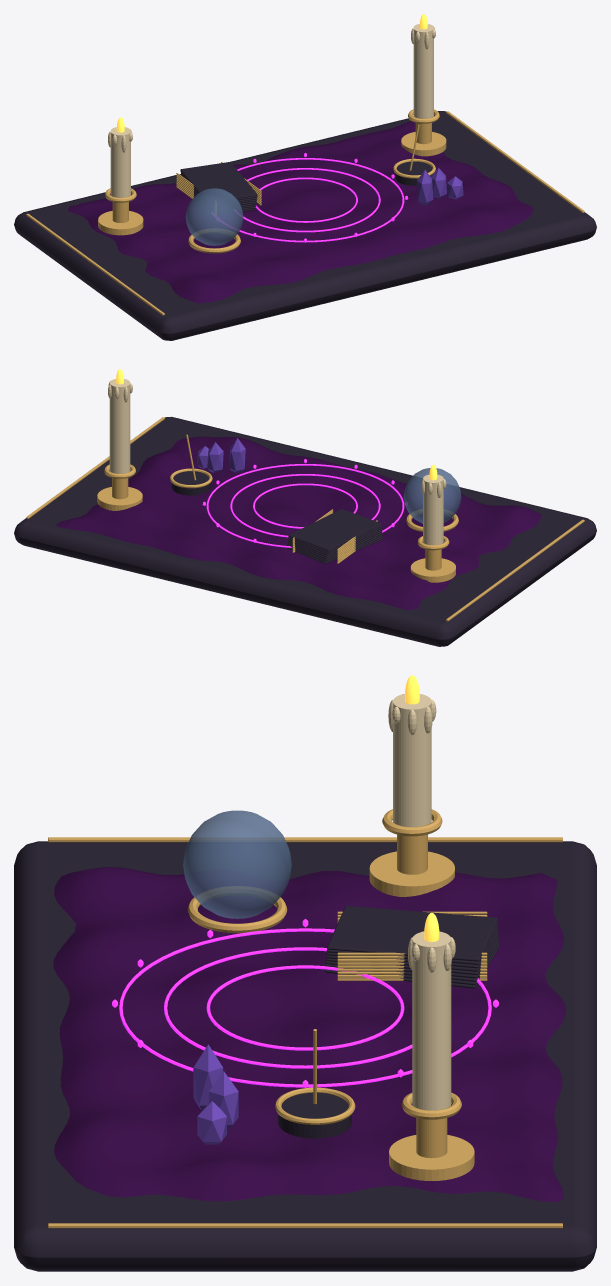
The model's file is ritual-table.glb.
3 views of the same model, one above another, from view 1: azimuth 30°, elevation 25°; view 2: azimuth 150°, elevation 25°; view 3: azimuth 270°, elevation 25° (orthographic). The views are drawn at different scales.
Parts seen in each view (by area): view 1: Draped velvet cloth, Ritual table, Crystal ball, Ivory candle.001, Physical tarot deck.008, Ivory candle, Golden ritual circle.002, Candlestick base, Candlestick base.001, Golden ritual circle.001, Brass table inlay, Brass table inlay.001 (+3 smaller); view 2: Draped velvet cloth, Ritual table, Physical tarot deck.008, Ivory candle.001, Crystal ball, Ivory candle, Golden ritual circle.002, Candlestick base, Candlestick base.001, Incense bowl, Golden ritual circle.001, Brass table inlay (+4 smaller); view 3: Draped velvet cloth, Ritual table, Crystal ball, Ivory candle.001, Physical tarot deck.008, Ivory candle, Brass table inlay.001, Candlestick base.001, Candlestick base, Golden ritual circle.002, Incense bowl, Brass table inlay (+11 smaller).
Part boxes in pixels (left/top/right/bottom): Draped velvet cloth: left=67, top=121, right=533, bottom=303; Ritual table: left=14, top=111, right=596, bottom=340; Crystal ball: left=185, top=188, right=243, bottom=245; Ivory candle.001: left=413, top=24, right=433, bottom=118; Physical tarot deck.008: left=180, top=162, right=257, bottom=198; Ivory candle: left=110, top=127, right=130, bottom=197; Golden ritual circle.002: left=237, top=158, right=404, bottom=242; Candlestick base: left=98, top=211, right=143, bottom=235; Candlestick base.001: left=401, top=132, right=446, bottom=156; Golden ritual circle.001: left=243, top=168, right=380, bottom=232; Brass table inlay: left=26, top=213, right=164, bottom=315; Brass table inlay.001: left=446, top=111, right=584, bottom=212; Draped velvet cloth: left=56, top=436, right=541, bottom=609; Ritual table: left=14, top=416, right=596, bottom=646; Physical tarot deck.008: left=288, top=509, right=381, bottom=550; Ivory candle.001: left=109, top=379, right=130, bottom=473; Crystal ball: left=403, top=468, right=461, bottom=523; Ivory candle: left=423, top=474, right=443, bottom=545; Golden ritual circle.002: left=206, top=464, right=404, bottom=547; Candlestick base: left=410, top=558, right=455, bottom=582; Candlestick base.001: left=97, top=487, right=142, bottom=510; Incense bowl: left=171, top=471, right=210, bottom=495; Golden ritual circle.001: left=230, top=474, right=380, bottom=537; Brass table inlay: left=446, top=519, right=584, bottom=621; Draped velvet cloth: left=53, top=867, right=566, bottom=1202; Ritual table: left=14, top=841, right=596, bottom=1271; Crystal ball: left=183, top=810, right=291, bottom=918; Ivory candle.001: left=412, top=931, right=451, bottom=1110; Physical tarot deck.008: left=327, top=906, right=497, bottom=961; Ivory candle: left=393, top=694, right=431, bottom=827; Brass table inlay.001: left=48, top=1223, right=562, bottom=1228; Candlestick base.001: left=389, top=1135, right=474, bottom=1180; Candlestick base: left=369, top=851, right=454, bottom=896; Golden ritual circle.002: left=119, top=928, right=491, bottom=1087; Incense bowl: left=278, top=1093, right=351, bottom=1138; Brass table inlay: left=48, top=837, right=562, bottom=842.
Bounding box in the file's own units: 4.9 × 1.73 × 3.
